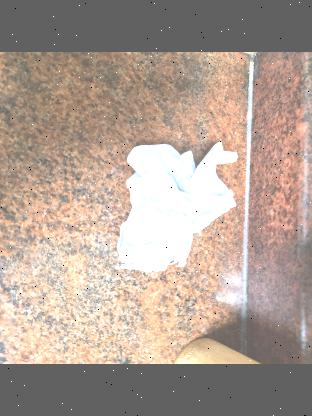Others: (117, 143, 241, 282)
